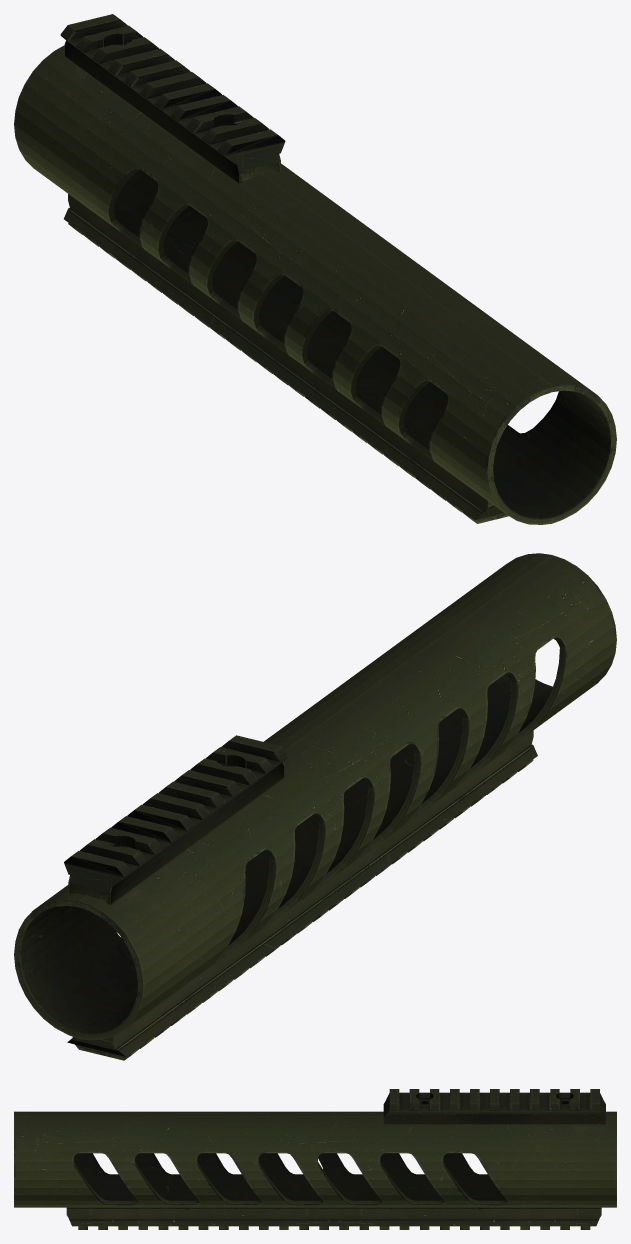
3 renders of one model, top to bottom at view 1: azimuth 30°, elevation 25°; view 2: azimuth 150°, elevation 25°; view 3: azimuth 270°, elevation 25°, orthographic. The views are drawn at different scales.
Visible parts, largest first — view 1: TW_5888976c24597754281f93f5_PZ_Import; view 2: TW_5888976c24597754281f93f5_PZ_Import; view 3: TW_5888976c24597754281f93f5_PZ_Import.
Part boxes in pixels (<box>): TW_5888976c24597754281f93f5_PZ_Import: <box>14,14,616,524</box>; TW_5888976c24597754281f93f5_PZ_Import: <box>14,553,616,1060</box>; TW_5888976c24597754281f93f5_PZ_Import: <box>14,1089,616,1229</box>.
Bounding box in the file's own units: 0.0267 × 0.1691 × 0.0392.
Materials: 1 (1 with a texture image).
